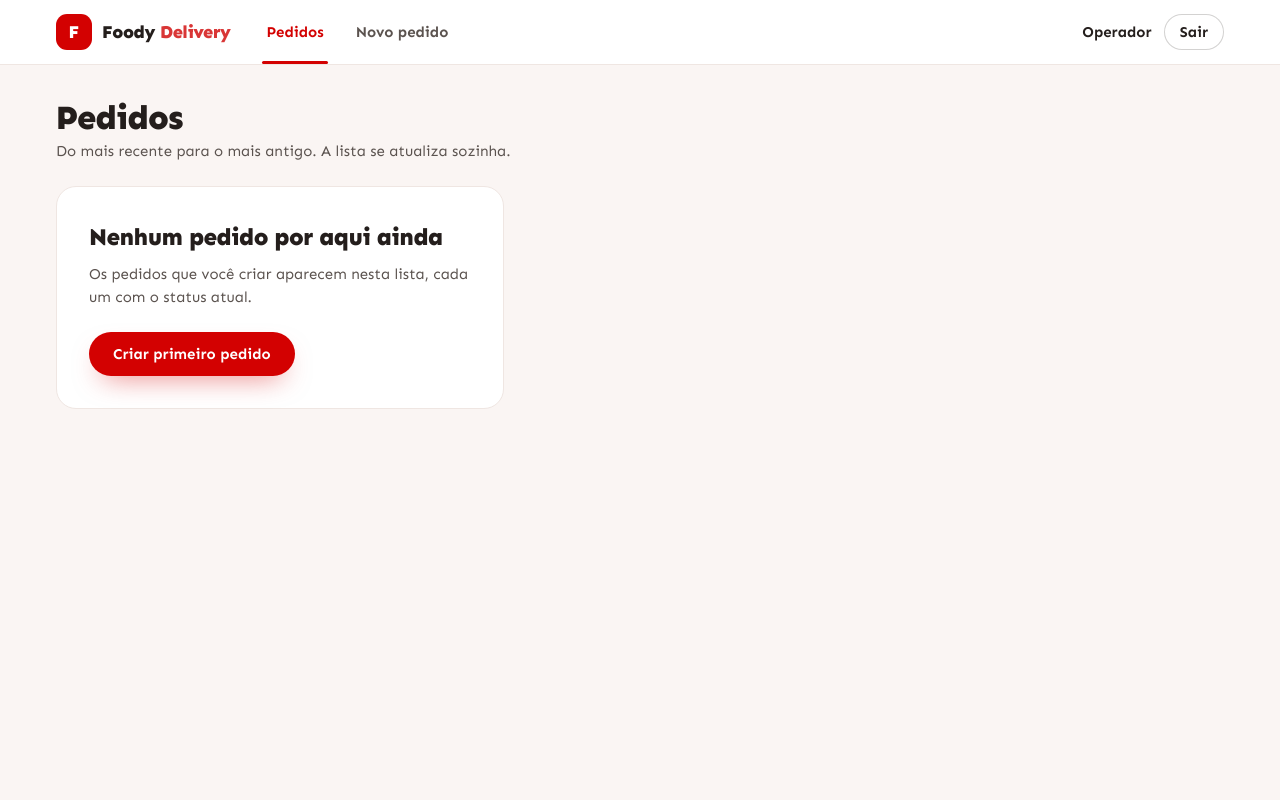
Scenario: autenticação › sai da conta
The width and height of the screenshot is (1280, 800).
Click the button "Sair" at x=1194, y=32, box top-left (1164, 14), bottom-right (1224, 50)
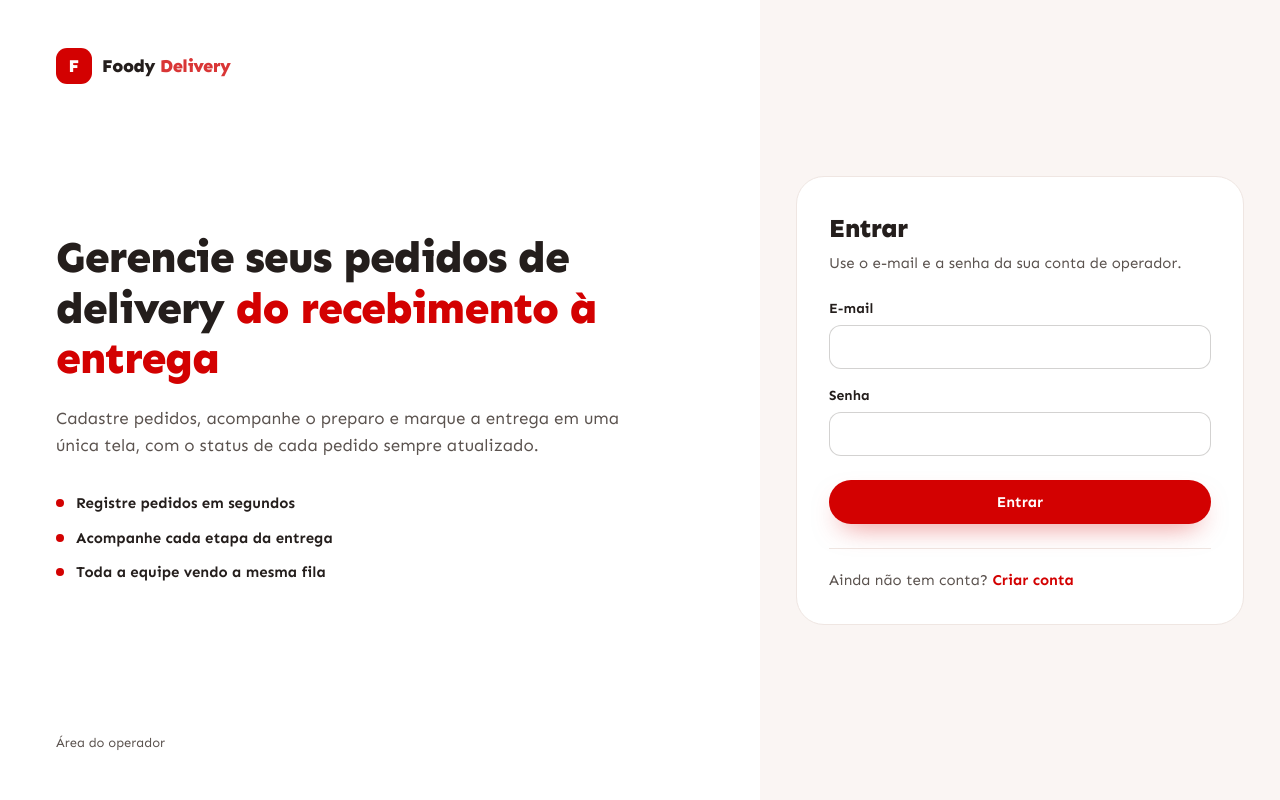
Check: the heading "Entrar" is shown, box top-left (829, 212), bottom-right (908, 244)
